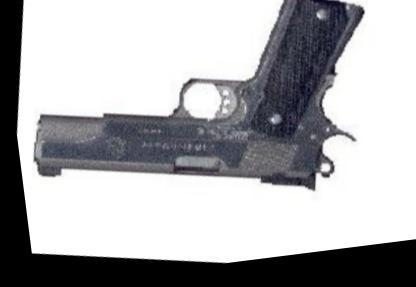pistol: (12, 0, 391, 235)
